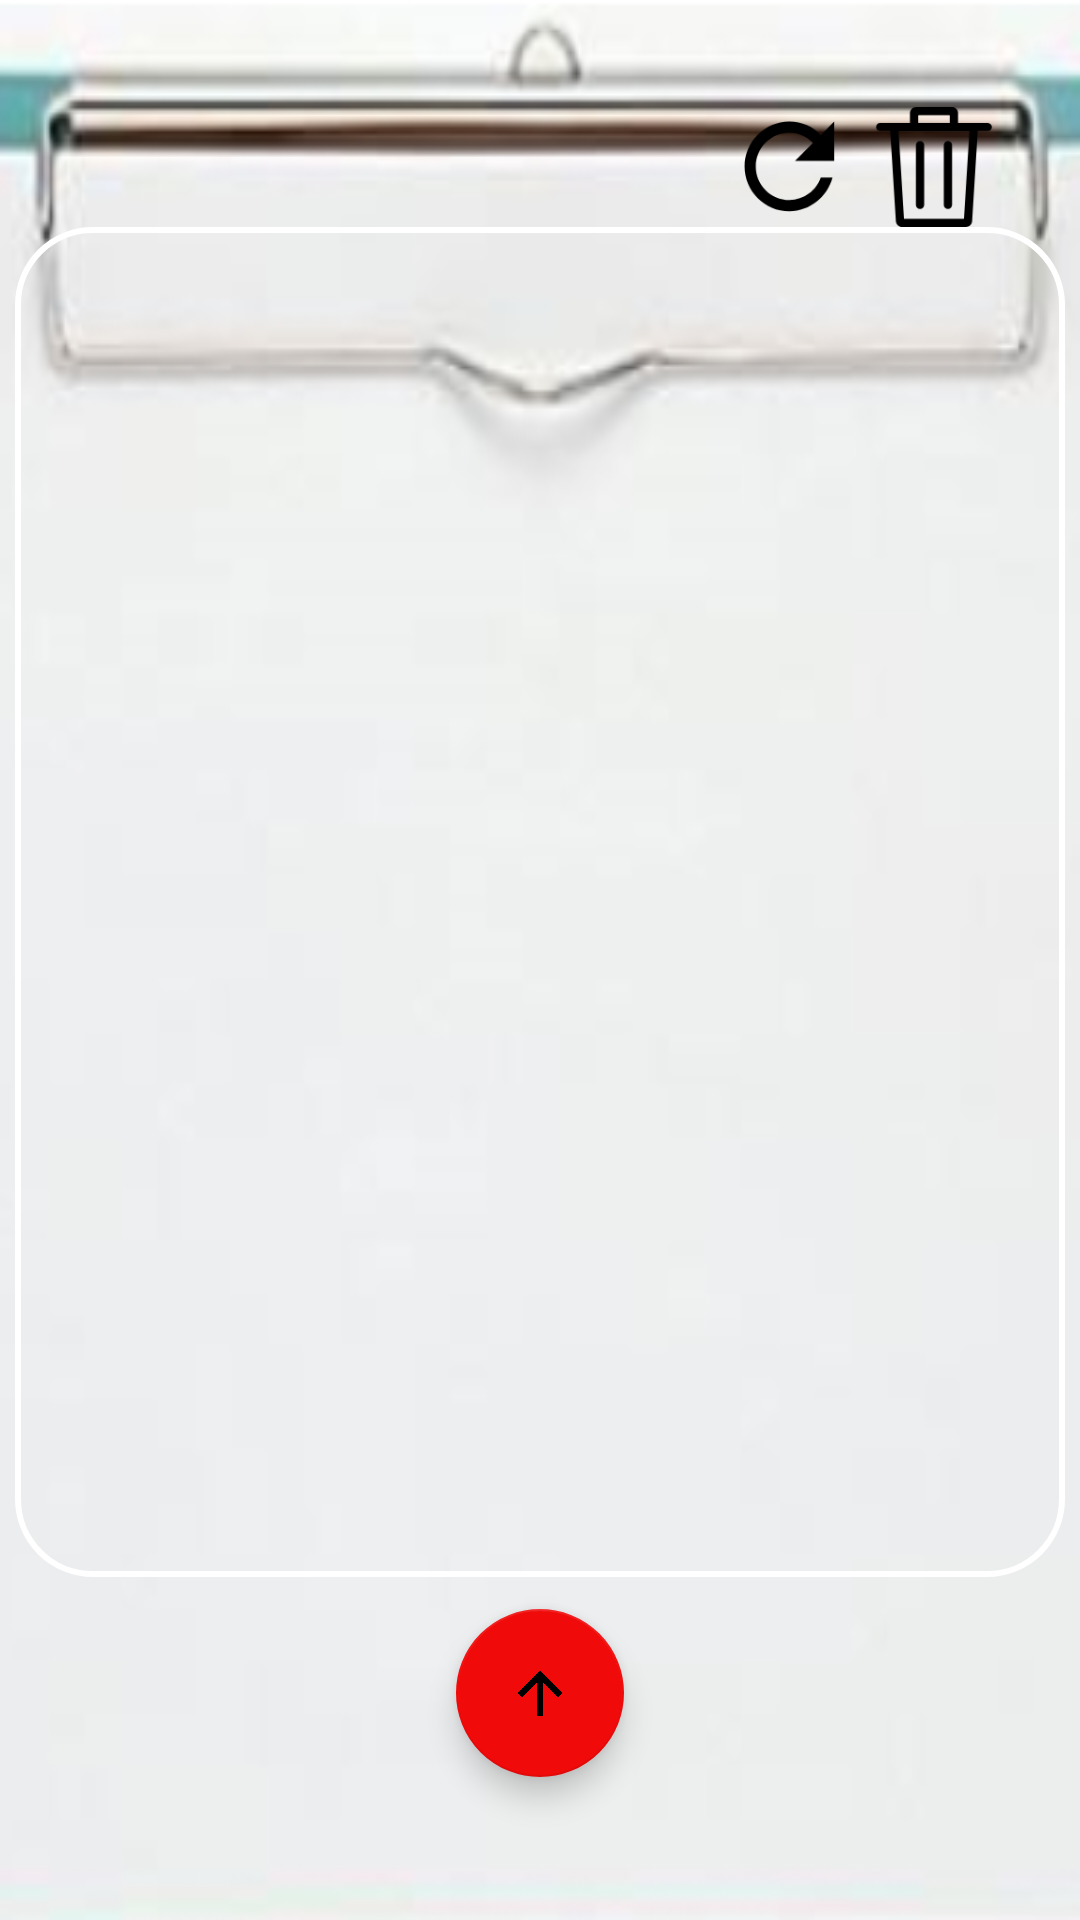

Icon click points for this 1080×1920 phone screenshot, format point (x, y):
delete: point (934, 167)
getnew: point (790, 167)
